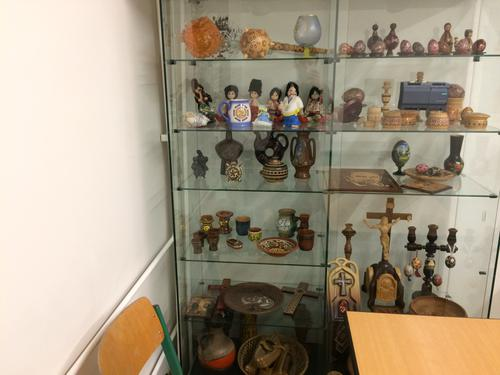iot2000: (397, 81, 451, 113)
